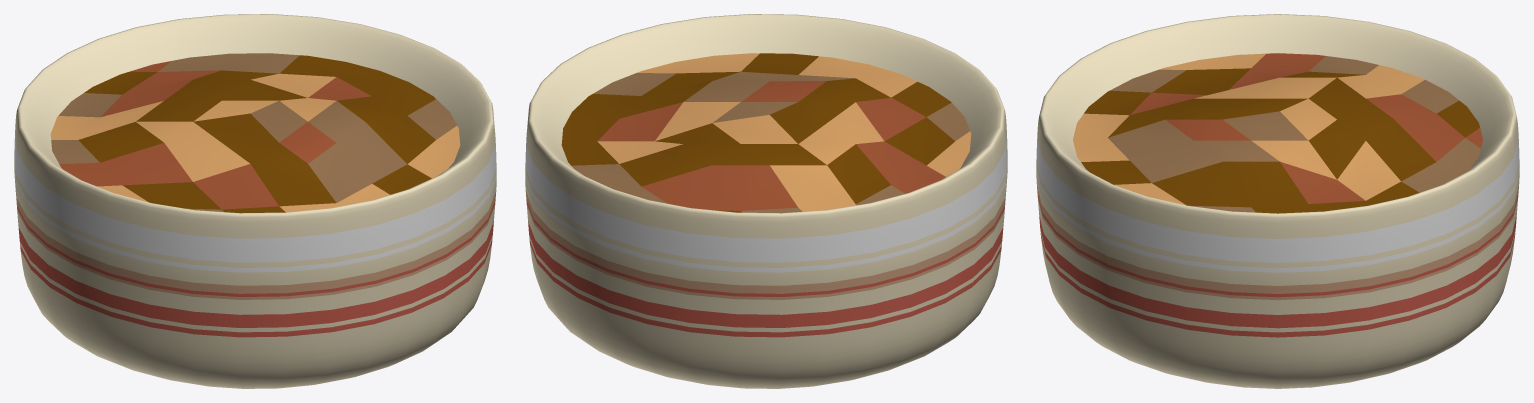
File: meat_bowl_5.fbx
3 renders of one model, left to right at view 1: azimuth 30°, elevation 25°; view 2: azimuth 150°, elevation 25°; view 3: azimuth 270°, elevation 25°, orthographic.
Parts seen in each view (by area): view 1: nurbsToPoly37, pDisc2; view 2: nurbsToPoly37, pDisc2; view 3: nurbsToPoly37, pDisc2.
Part boxes in pixels (box(x1,y1,x2,y2)): nurbsToPoly37: box(14, 14, 496, 388); pDisc2: box(50, 53, 460, 213); nurbsToPoly37: box(525, 14, 1007, 388); pDisc2: box(561, 53, 971, 213); nurbsToPoly37: box(1036, 14, 1519, 388); pDisc2: box(1073, 53, 1482, 213).
Bounding box in the file's own units: 8.64 × 4.72 × 8.64.
